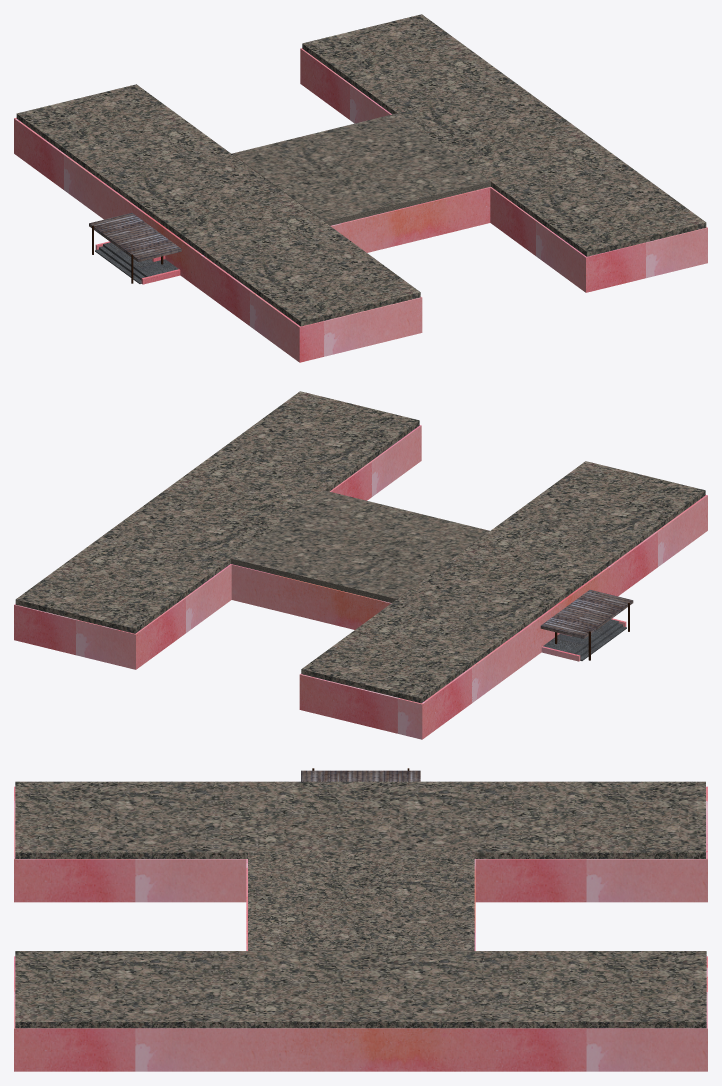
The model's file is sschool(1).FBX.
The picture shows the model from 3 angles, top to bottom: view 1: azimuth 30°, elevation 25°; view 2: azimuth 150°, elevation 25°; view 3: azimuth 270°, elevation 25°; orthographic projection. The views are drawn at different scales.
Parts seen in each view (by area): view 1: Box004, Box005, Стена, Box006, Box007, Box001, Пол крыльца2; view 2: Box004, Box005, Стена, Box006, Box007, Box001, Пол крыльца2; view 3: Box005, Box004, Стена, Box006, Box007.
Part boxes in pixels (left/top/right/bottom): Box004: left=16, top=84, right=420, bottom=326; Box005: left=302, top=14, right=706, bottom=256; Стена: left=14, top=48, right=707, bottom=362; Box006: left=232, top=113, right=490, bottom=225; Box007: left=89, top=213, right=181, bottom=261; Box001: left=95, top=243, right=151, bottom=283; Пол крыльца2: left=107, top=242, right=178, bottom=275; Box004: left=301, top=461, right=705, bottom=703; Box005: left=15, top=391, right=419, bottom=633; Стена: left=14, top=425, right=707, bottom=739; Box006: left=230, top=490, right=489, bottom=602; Box007: left=540, top=590, right=633, bottom=638; Box001: left=570, top=620, right=626, bottom=660; Пол крыльца2: left=543, top=619, right=614, bottom=652; Box005: left=15, top=951, right=706, bottom=1028; Box004: left=15, top=781, right=705, bottom=858; Стена: left=14, top=786, right=707, bottom=1071; Box006: left=248, top=852, right=474, bottom=950; Box007: left=301, top=770, right=420, bottom=781.
Size of the model in its own units: 2618 by 225 by 2858.
